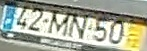0: (107, 18, 125, 45)
2: (27, 6, 44, 32)
4: (15, 5, 28, 30)
5: (91, 15, 111, 42)
M: (46, 9, 72, 37)
N: (67, 11, 89, 41)
